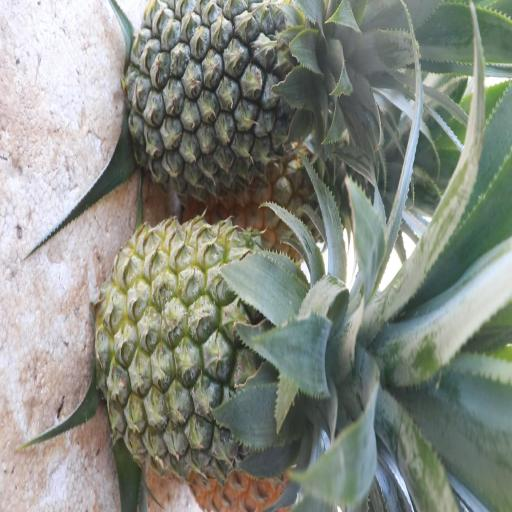------------------------------: (98, 218, 346, 472)
